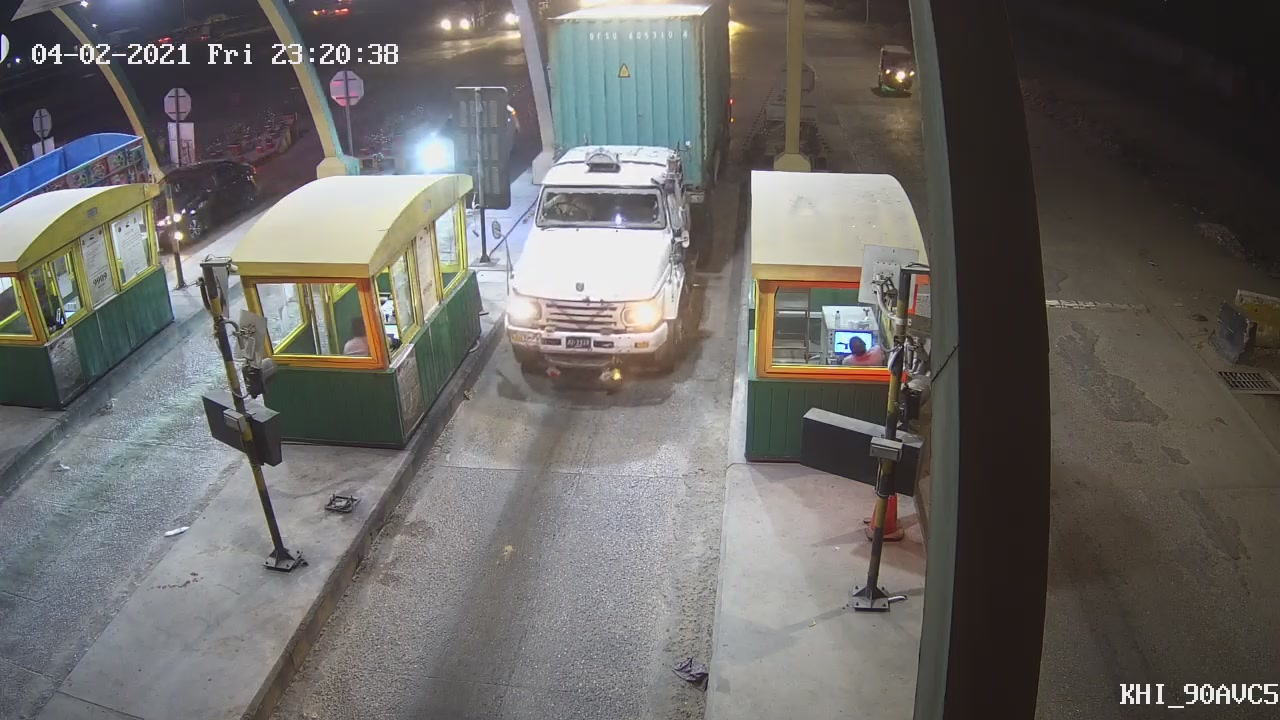F6: (480, 1, 743, 394)
